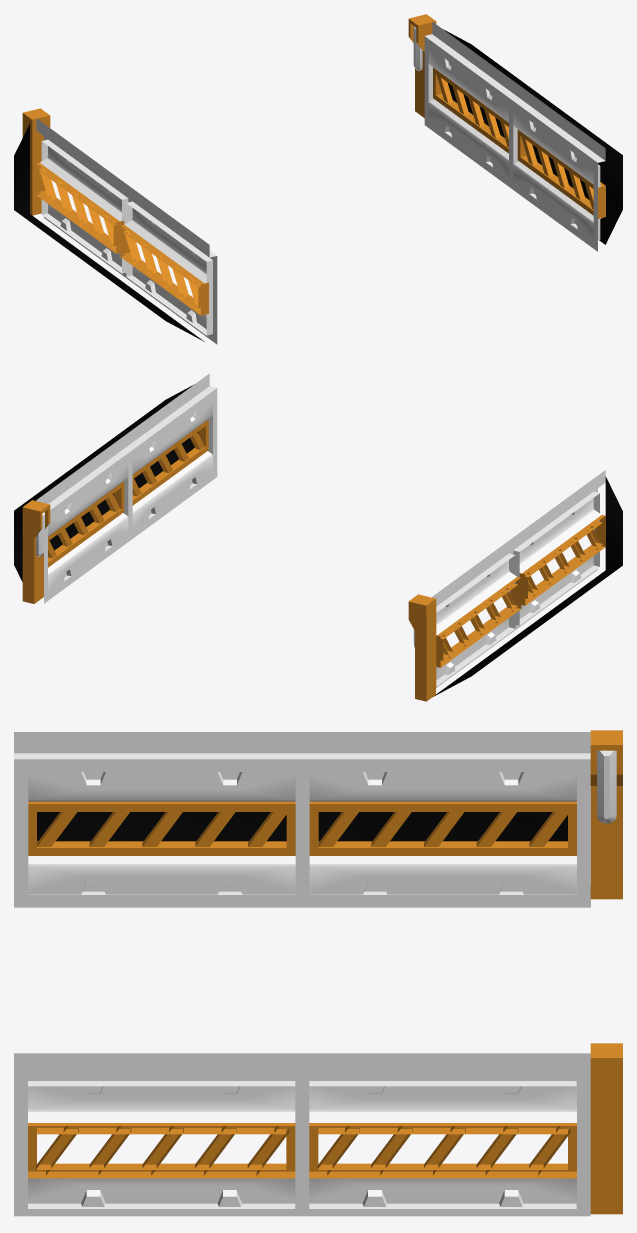
Rendered from env_minidungeon_corridor_pieces02.fbx.
3 renders of one model, top to bottom at view 1: azimuth 30°, elevation 25°; view 2: azimuth 150°, elevation 25°; view 3: azimuth 270°, elevation 25°, orthographic. The views are drawn at different scales.
Parts seen in each view (by area): view 1: env_minidungeons_corridor_pieces02_lod0; view 2: env_minidungeons_corridor_pieces02_lod0; view 3: env_minidungeons_corridor_pieces02_lod0.
Part boxes in pixels (bbox=[...]): env_minidungeons_corridor_pieces02_lod0: bbox=[14, 14, 622, 344]; env_minidungeons_corridor_pieces02_lod0: bbox=[14, 373, 622, 701]; env_minidungeons_corridor_pieces02_lod0: bbox=[14, 730, 622, 1216].
Bounding box in the file's own units: 185 × 39.26 × 128.
